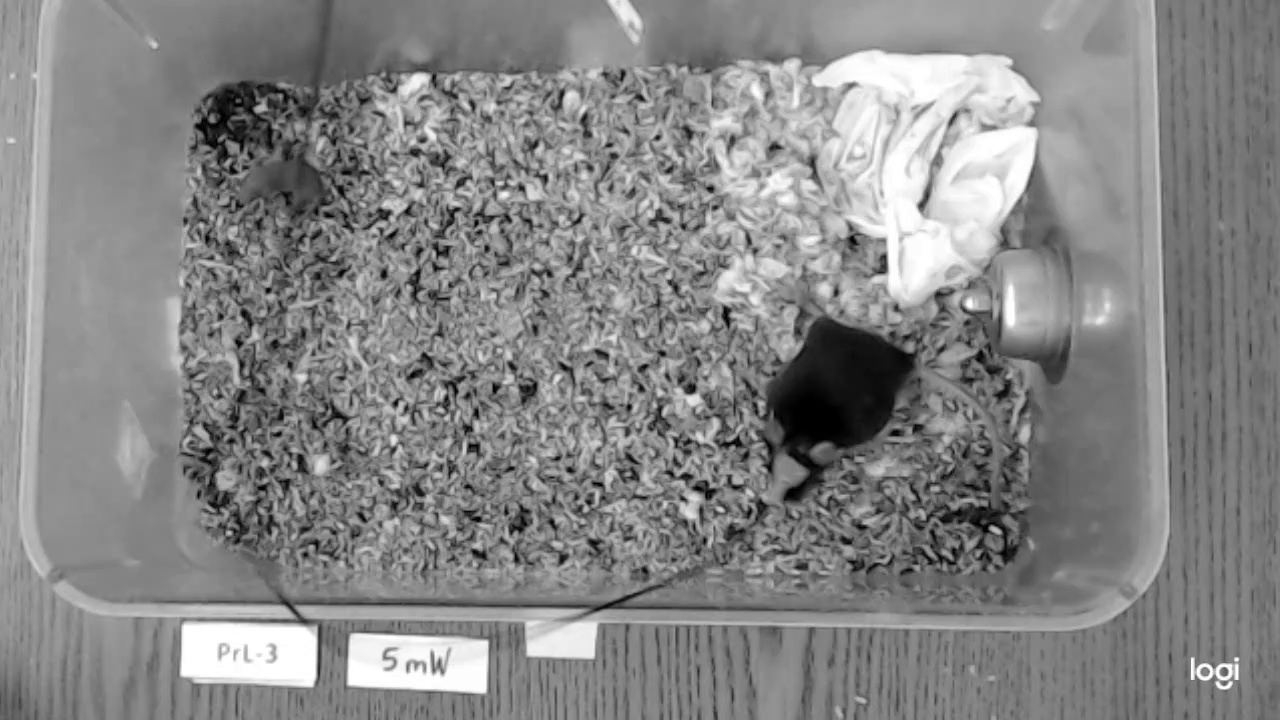child-mice: (237, 158, 324, 216)
